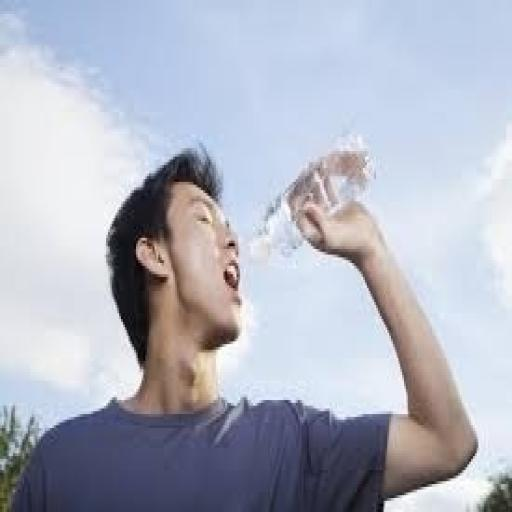drinking: (250, 137, 374, 263)
